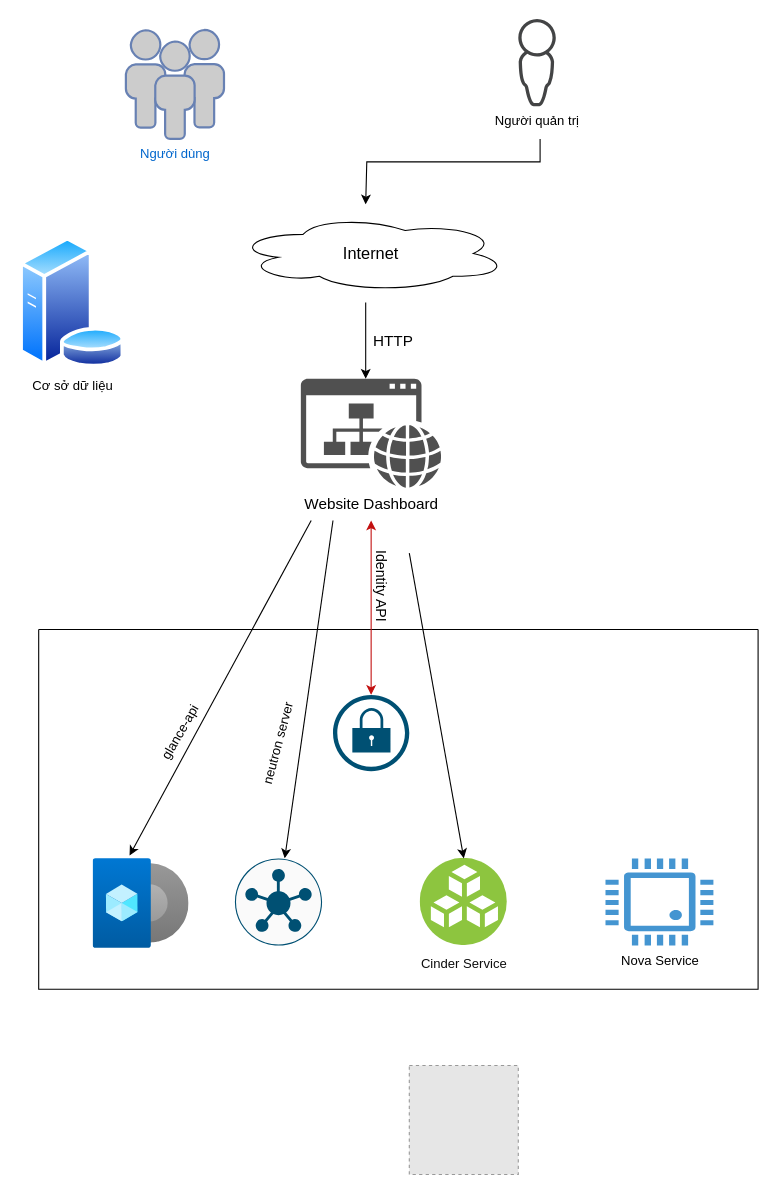
This 777x1194 diagram has some shape labels left out. Grey dashed boxes stand in for pictures. The shapes that lost their labels are listed below. From the top down, each one's centre as x and y in pixels, then its label:
At (x=370, y=732): "Keystone Service".
At (x=141, y=903): "Glance Service".
At (x=278, y=901): "Neutron Service".
